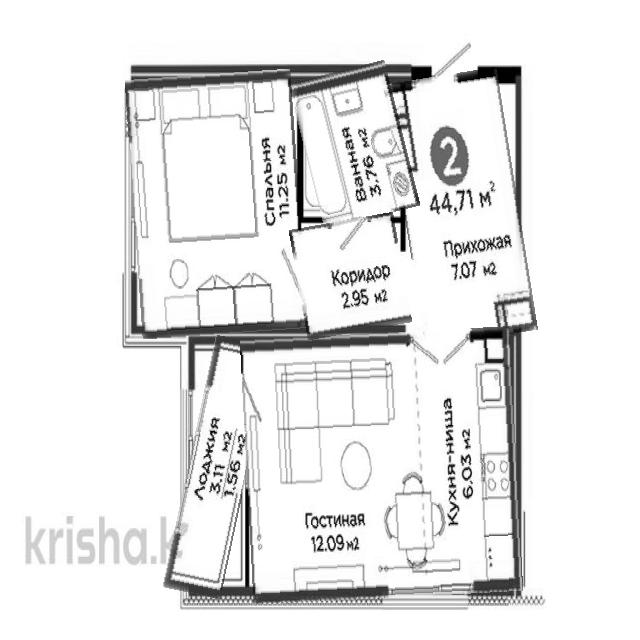balcony: (175, 337, 260, 598)
bathroom: (297, 65, 412, 225)
hallway: (394, 70, 528, 344), (294, 216, 408, 336)
living_room: (129, 71, 304, 337)
studio: (244, 330, 520, 601)
